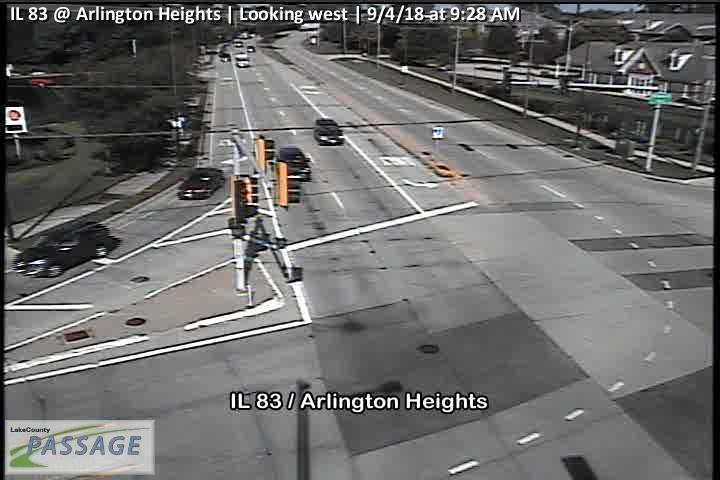SUV: (12, 223, 112, 277), (279, 147, 312, 182), (314, 119, 344, 145)
Sedan: (176, 168, 225, 200)
